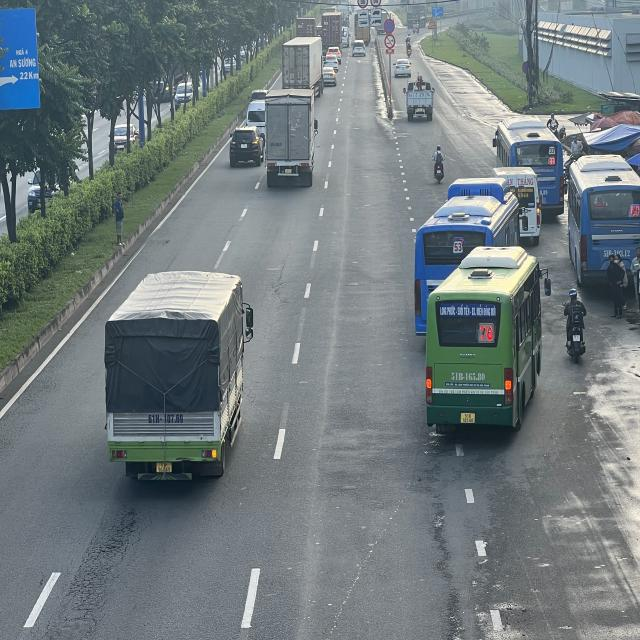car: (230, 125, 265, 166)
coach: (422, 243, 542, 431), (414, 176, 526, 338), (566, 157, 638, 301), (494, 115, 562, 177)
container: (280, 38, 324, 96)
truck: (102, 276, 252, 487), (264, 92, 318, 186), (405, 78, 435, 122)
